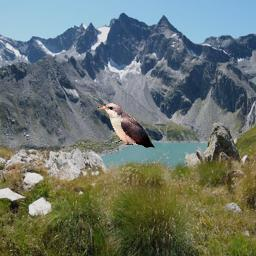Cuckoo: (97, 103, 155, 148)
